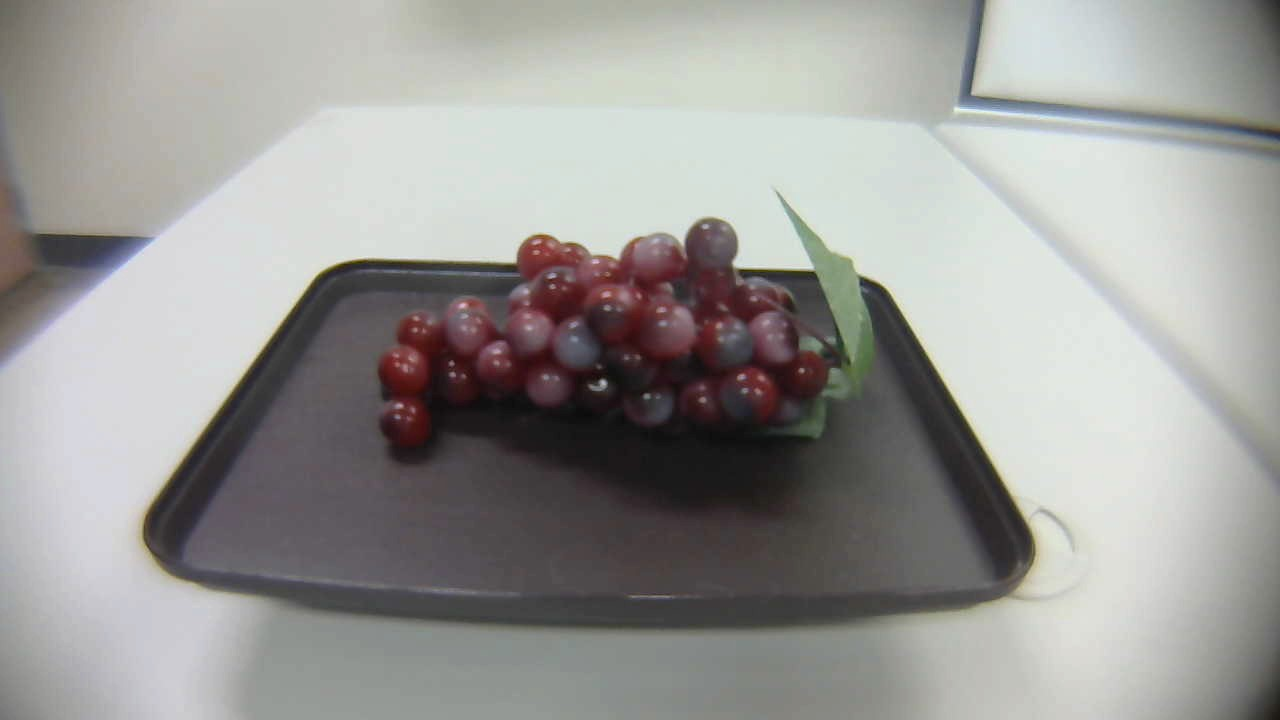grape: (368, 188, 881, 482)
